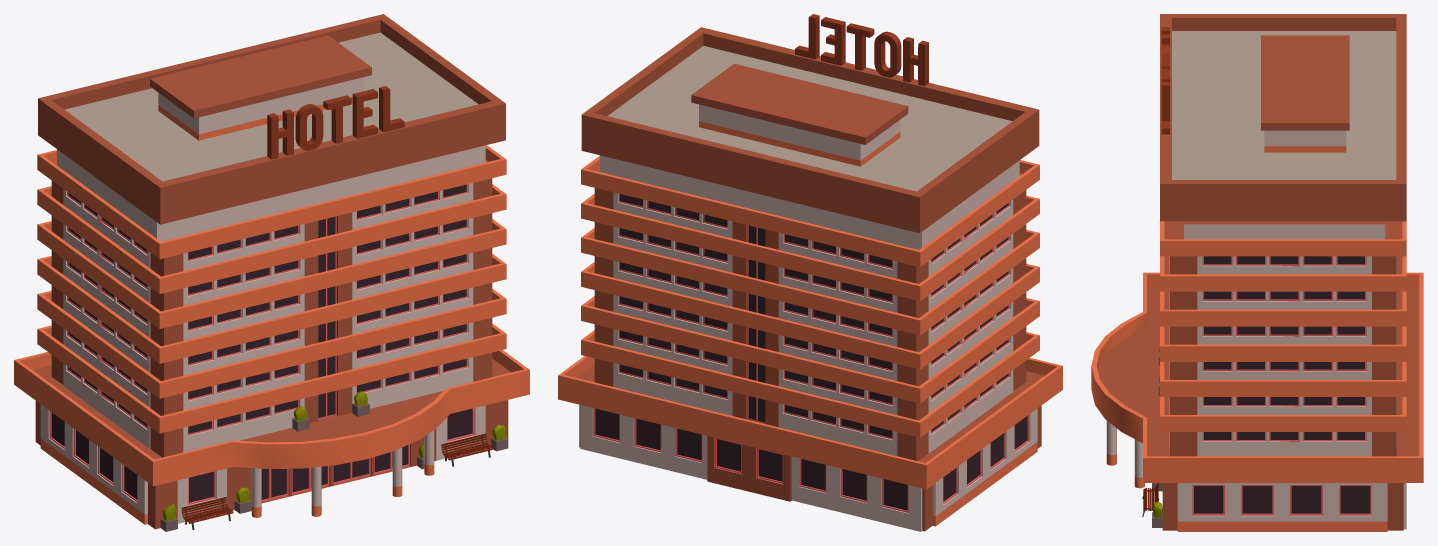
The model's file is hotel_low.glb.
3 renders of one model, left to right at view 1: azimuth 30°, elevation 25°; view 2: azimuth 150°, elevation 25°; view 3: azimuth 270°, elevation 25°, orthographic. The views are drawn at different scales.
Visible parts, largest first — view 1: hotel_orange; view 2: hotel_orange; view 3: hotel_orange.
Part boxes in pixels (x1,y1,x2,y2): hotel_orange: (14, 14, 529, 531); hotel_orange: (558, 14, 1062, 531); hotel_orange: (1091, 14, 1423, 531).
Size of the model in its own units: 2.8 by 2.73 by 2.12.
1 material, 1 textured.
